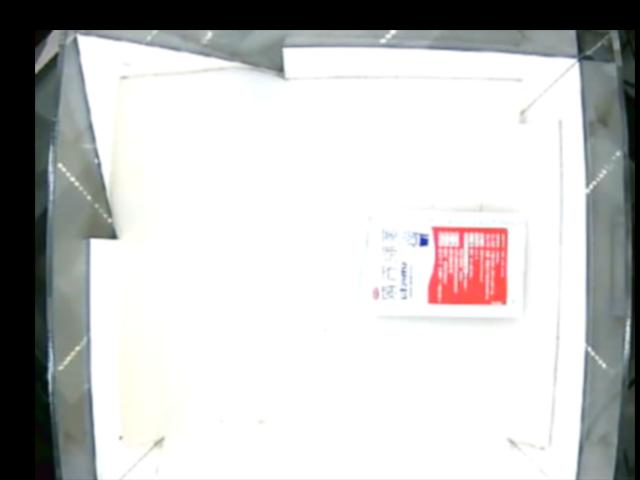Medicine: (358, 208, 528, 320)
